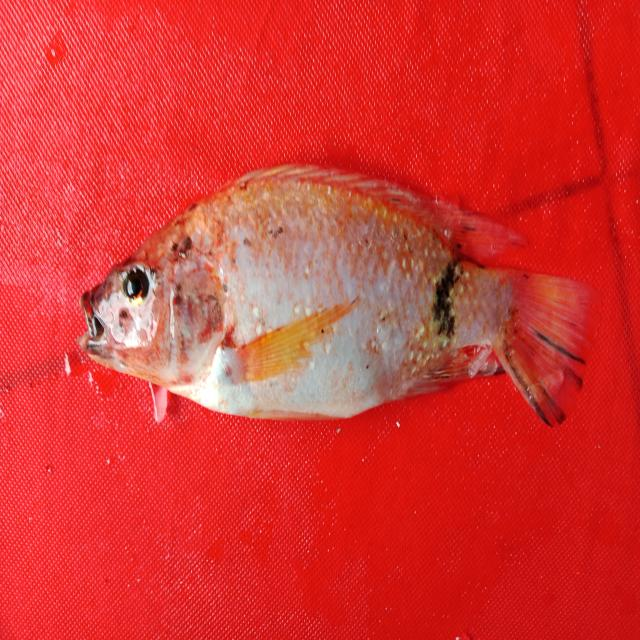ikan: (62, 140, 601, 444)
